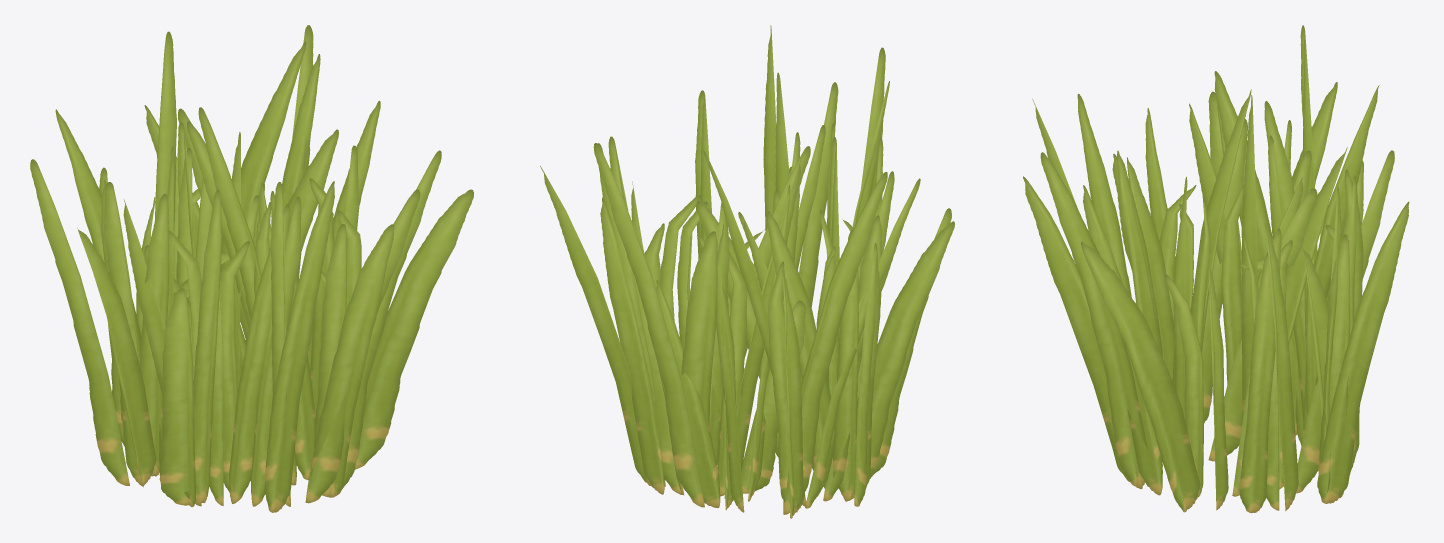
File: seaweed.fbx
3 views of the same model, side by side, from view 1: azimuth 30°, elevation 25°; view 2: azimuth 150°, elevation 25°; view 3: azimuth 270°, elevation 25° (orthographic). The views are drawn at different scales.
Parts seen in each view (by area): view 1: stylizedtropical01_0; view 2: stylizedtropical01_0; view 3: stylizedtropical01_0.
Part boxes in pixels (left/top/right/bottom): stylizedtropical01_0: left=30, top=25, right=473, bottom=512; stylizedtropical01_0: left=540, top=25, right=954, bottom=518; stylizedtropical01_0: left=1023, top=25, right=1409, bottom=513.
Size of the model in its own units: 152 by 167 by 162.
Materials: 1 (1 with a texture image).
